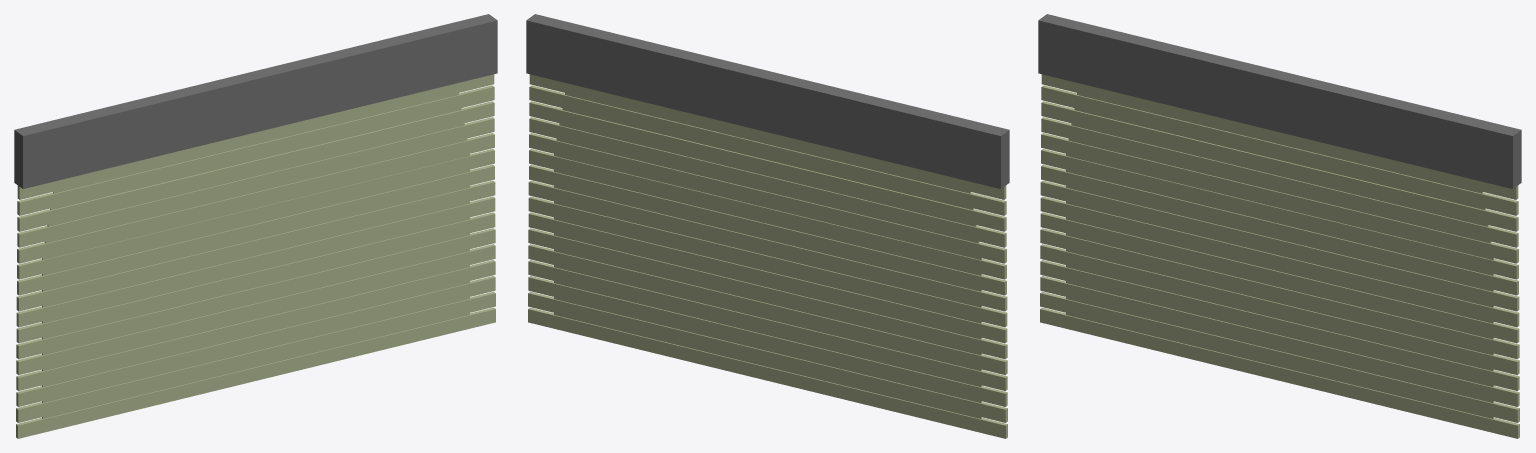
The model's file is puertaGaraje.fbx.
The picture shows the model from 3 angles, left to right: view 1: azimuth 30°, elevation 25°; view 2: azimuth 150°, elevation 25°; view 3: azimuth 330°, elevation 25°; orthographic projection.
Parts seen in each view (by area): view 1: Cube; view 2: Cube; view 3: Cube.
Part boxes in pixels (x1,y1,x2,y2): Cube: (14, 14, 497, 438); Cube: (526, 14, 1009, 438); Cube: (1038, 14, 1521, 438).
Bounding box in the file's own units: 787 × 480 × 25.
